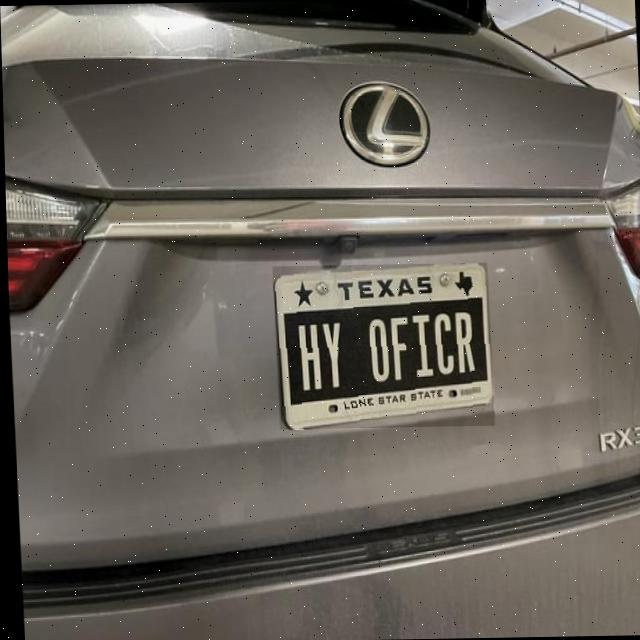LicensePlate: (271, 263, 491, 429)
